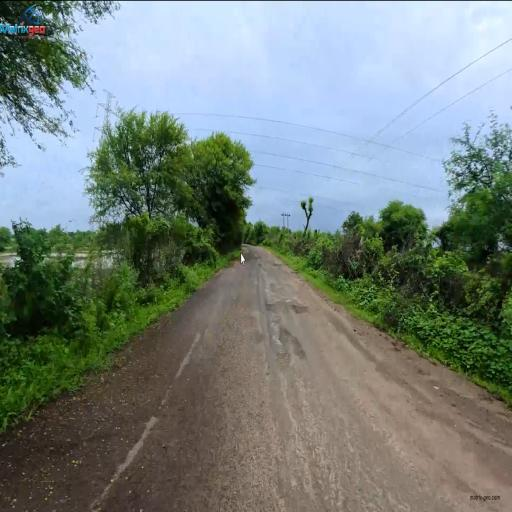pothole: (260, 291, 305, 394)
